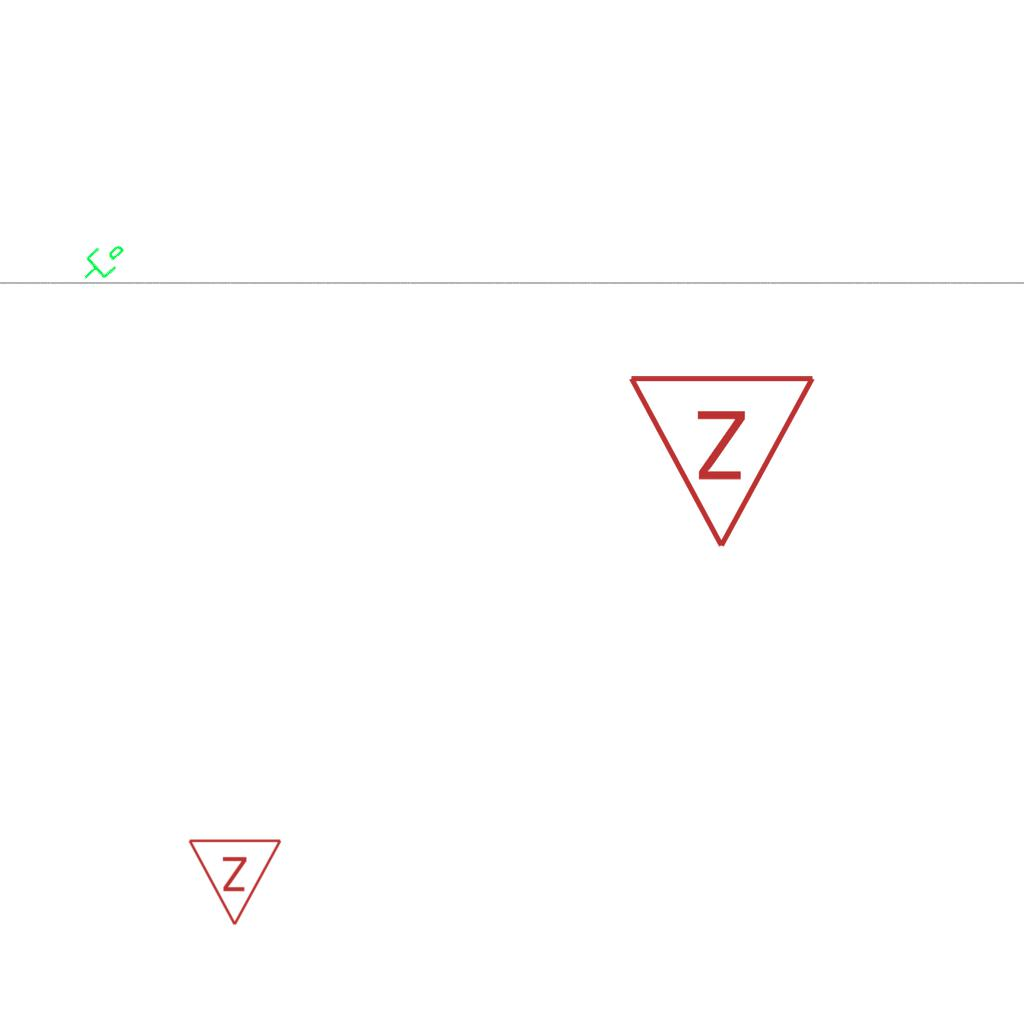Datenanschluss_einfach: (72, 231, 132, 291)
Zimmersignalleuchte: (626, 361, 822, 561), (187, 832, 285, 932)
